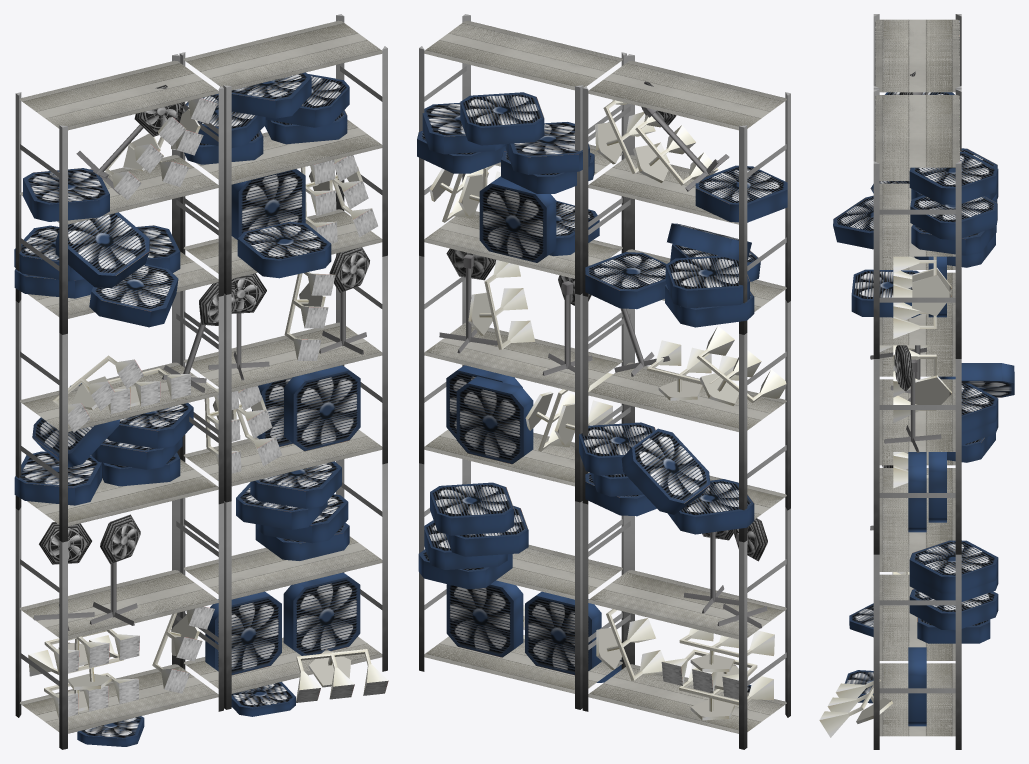
File: Messy_Appliance_WallRack_TypeB.fbx
3 views of the same model, side by side, from view 1: azimuth 30°, elevation 25°; view 2: azimuth 150°, elevation 25°; view 3: azimuth 270°, elevation 25° (orthographic). The views are drawn at different scales.
Parts seen in each view (by area): view 1: Messy_Appliance_WallRack_TypeB; view 2: Messy_Appliance_WallRack_TypeB; view 3: Messy_Appliance_WallRack_TypeB.
Boxes of the visible parts, box(x1,y1,x2,y2) form: Messy_Appliance_WallRack_TypeB: box(14, 14, 388, 749); Messy_Appliance_WallRack_TypeB: box(417, 14, 790, 749); Messy_Appliance_WallRack_TypeB: box(819, 14, 1014, 749).
Bounding box in the file's own units: 421 × 737 × 222.
